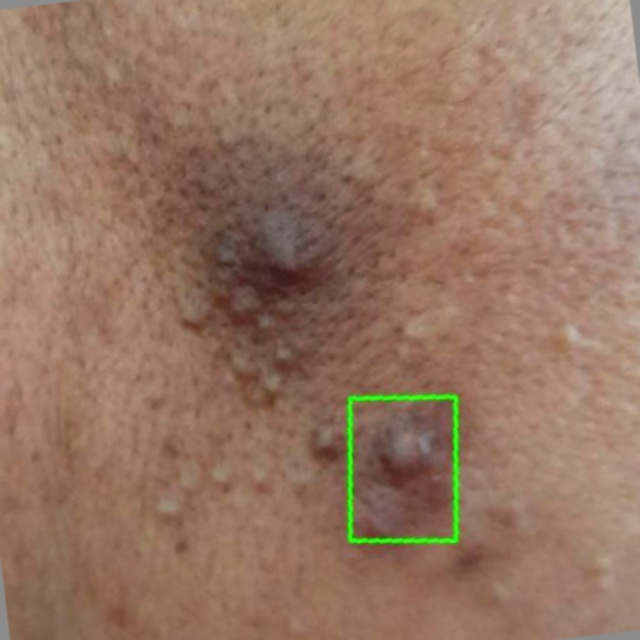Tinea Corporis: (350, 398, 455, 541)
